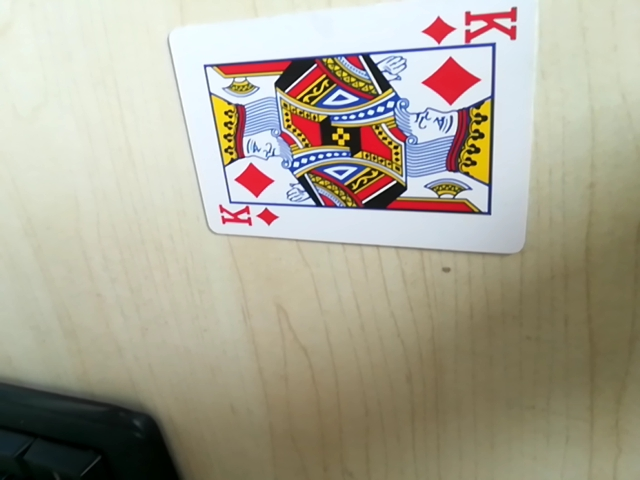fk k: (426, 2, 522, 50), (213, 202, 280, 233)
